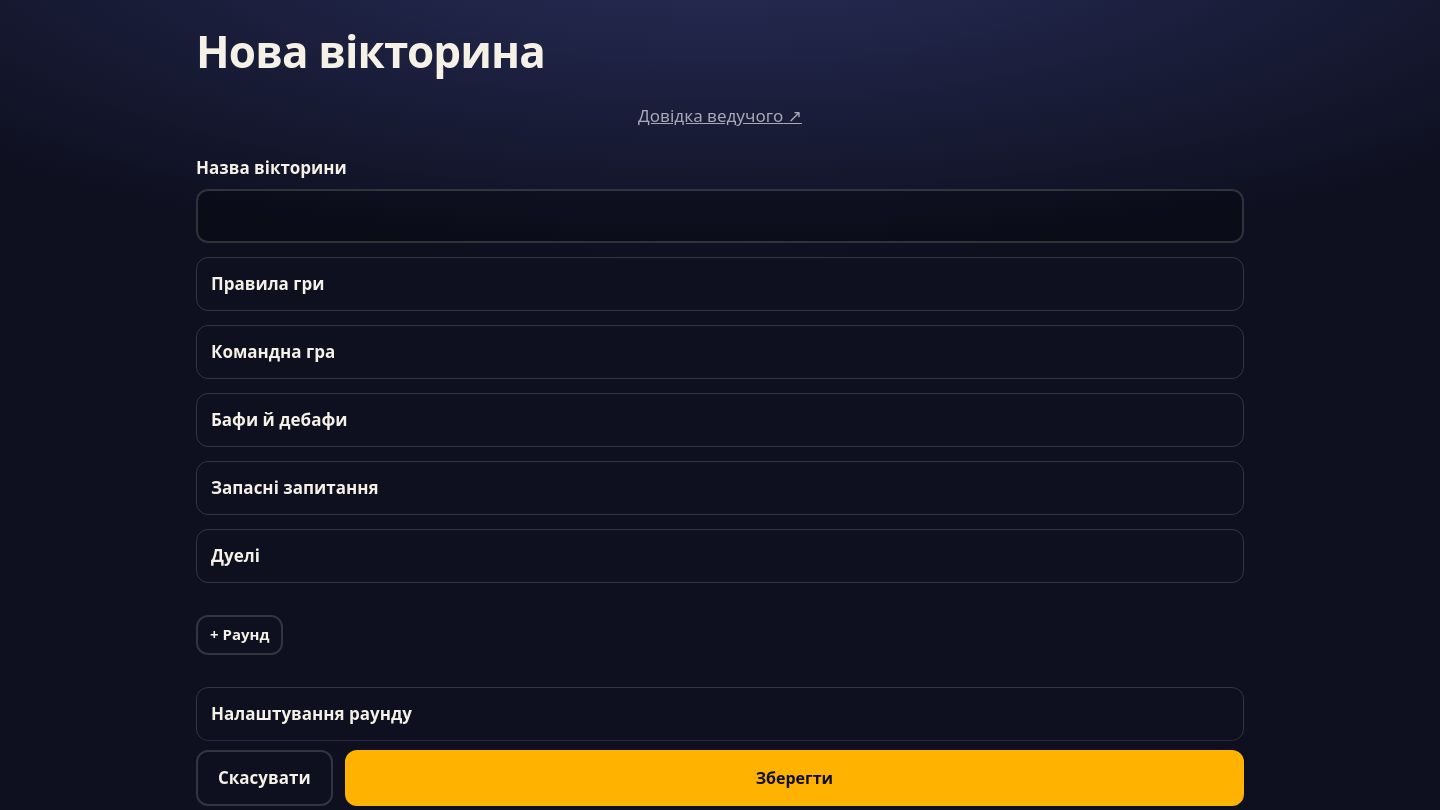
it: QuizEditor › does not save an unfinished quiz and says what is missing
Type "Географія" into the field labelled "Назва вікторини" at (720, 216), box [196,189,1244,243]
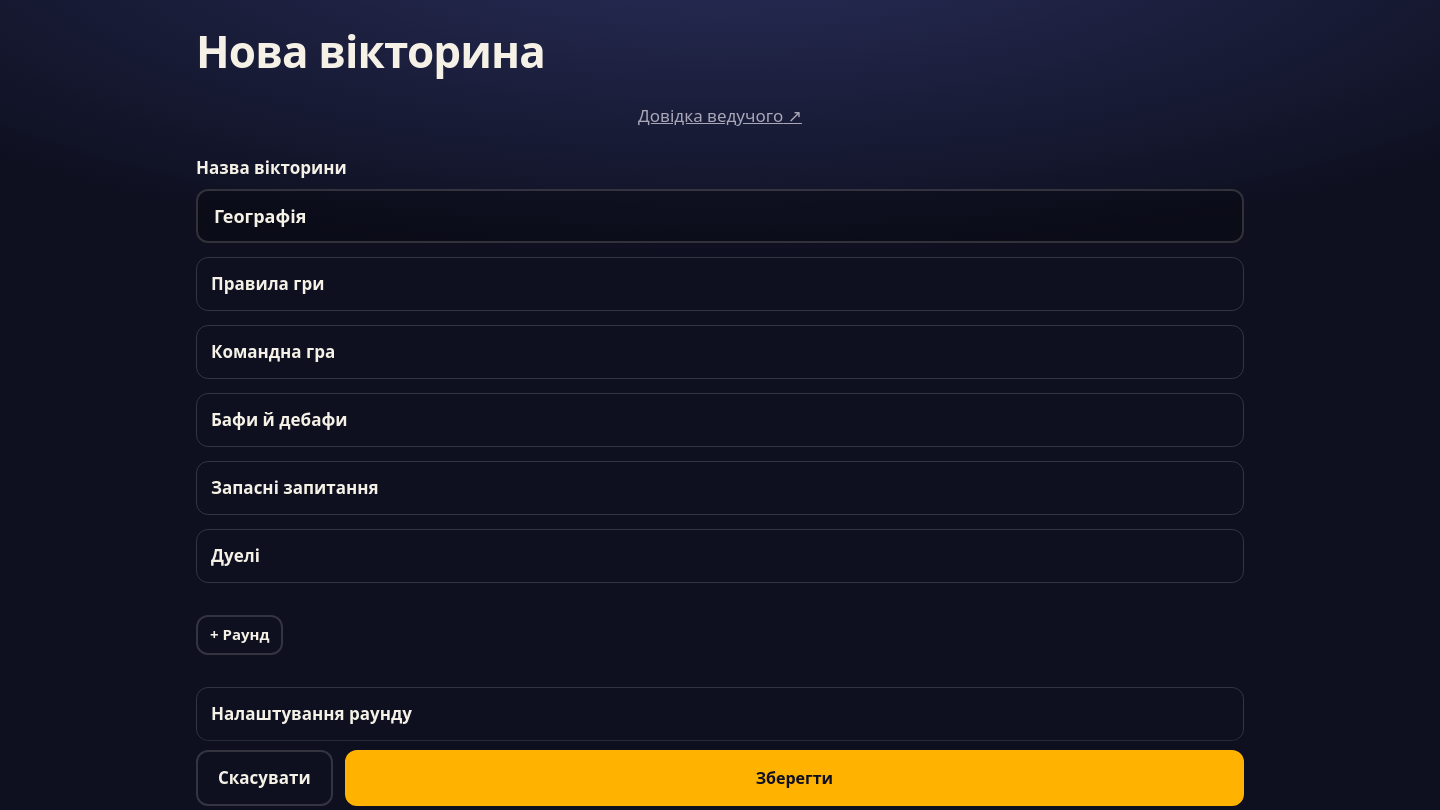
Click the button "Зберегти" at (794, 778), box [345,750,1244,806]
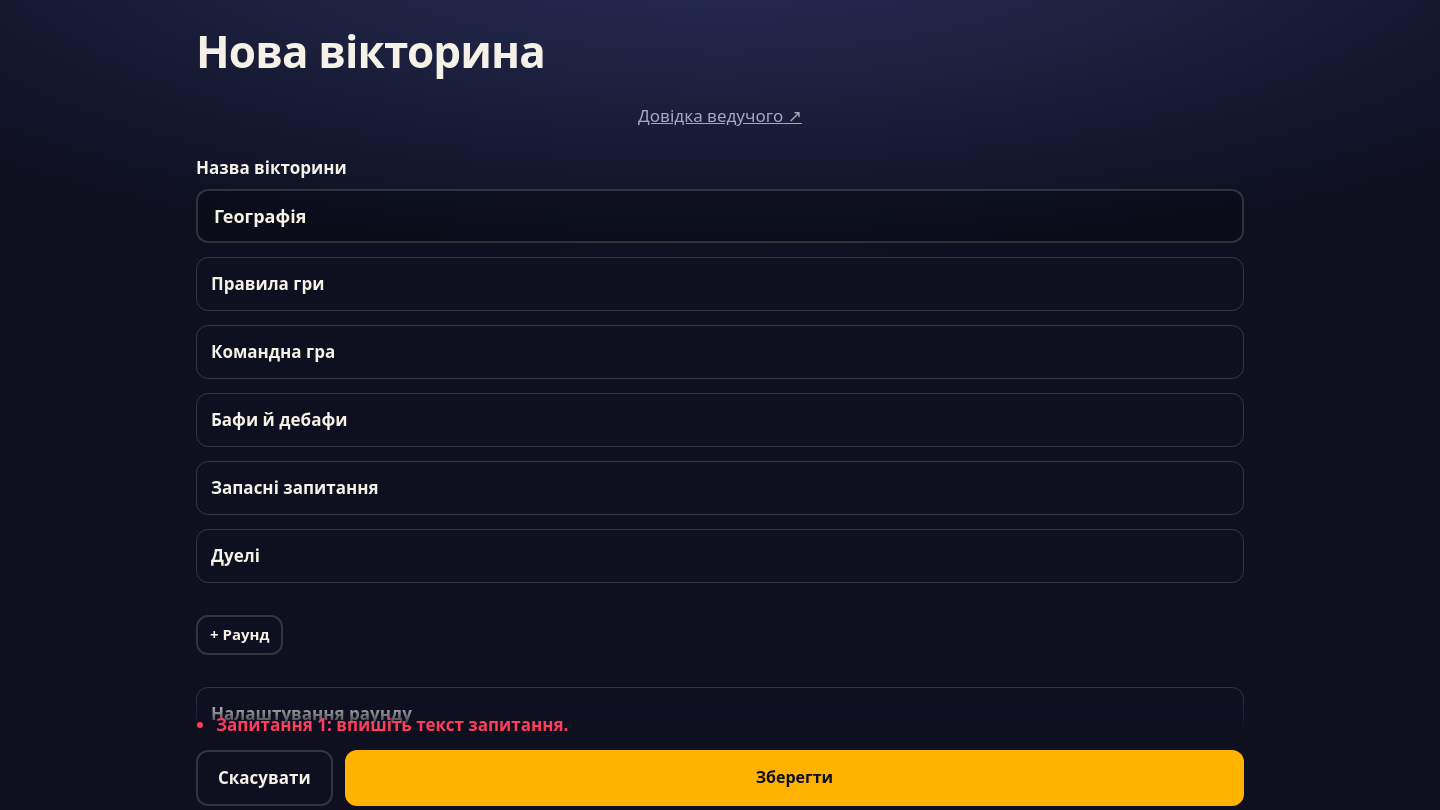
Now the message reads "Запитання 1: впишіть текст запитання.", box [216,713,568,736]
